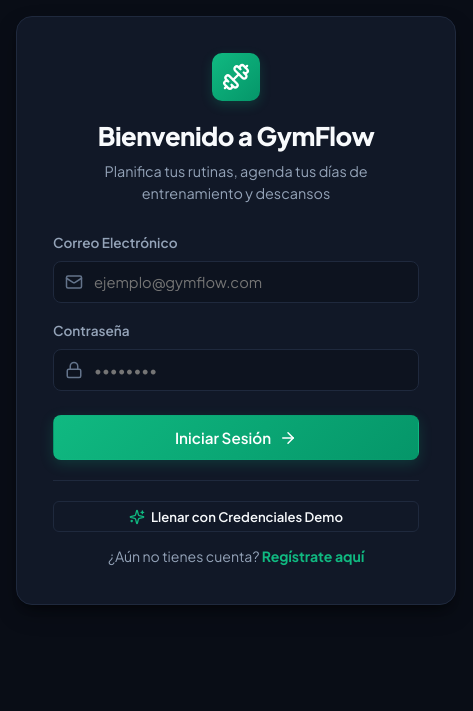
it: LoginPage › muestra el mensaje del backend cuando las credenciales son incorrectas
In the field with placeholder "ejemplo@gymflow.com": (236, 282) [53,261,419,303], type "ana@gym.com"
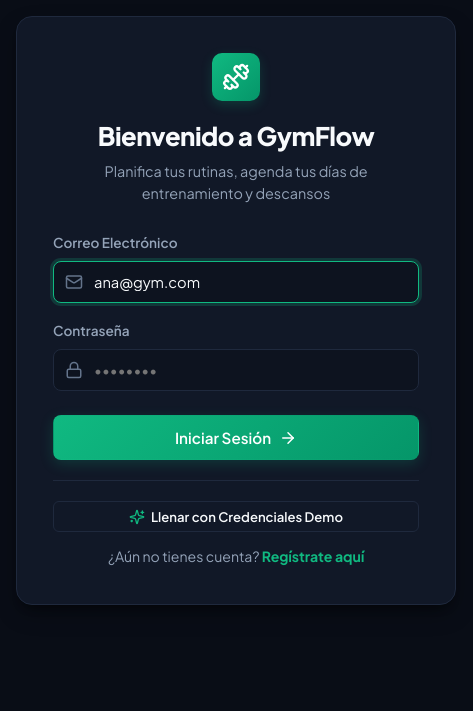
In the password field with placeholder "••••••••": (236, 370) [53,349,419,391], type "mala"
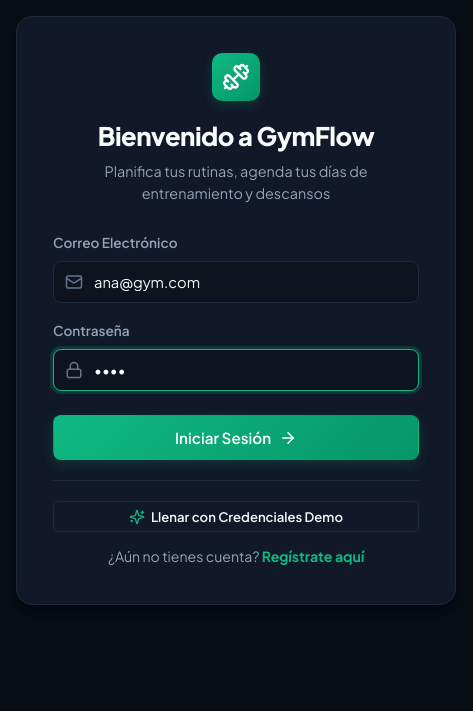
Click the button "Iniciar Sesión": (236, 438) [53,415,419,460]
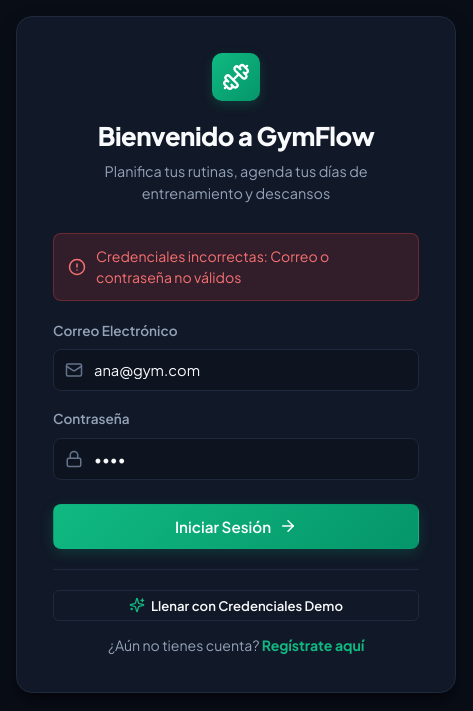
Expected: the text "Credenciales incorrectas: Correo o contraseña no válidos" is shown, [96,247,329,286]
